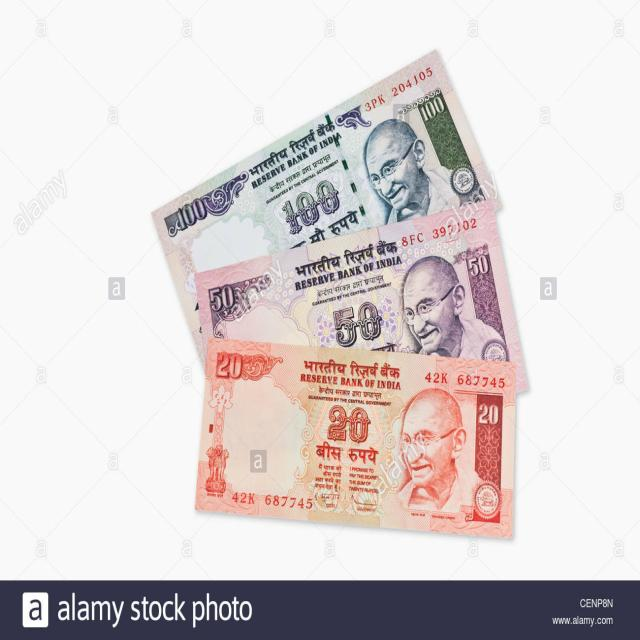20IndianRupees: (195, 339, 518, 520)
